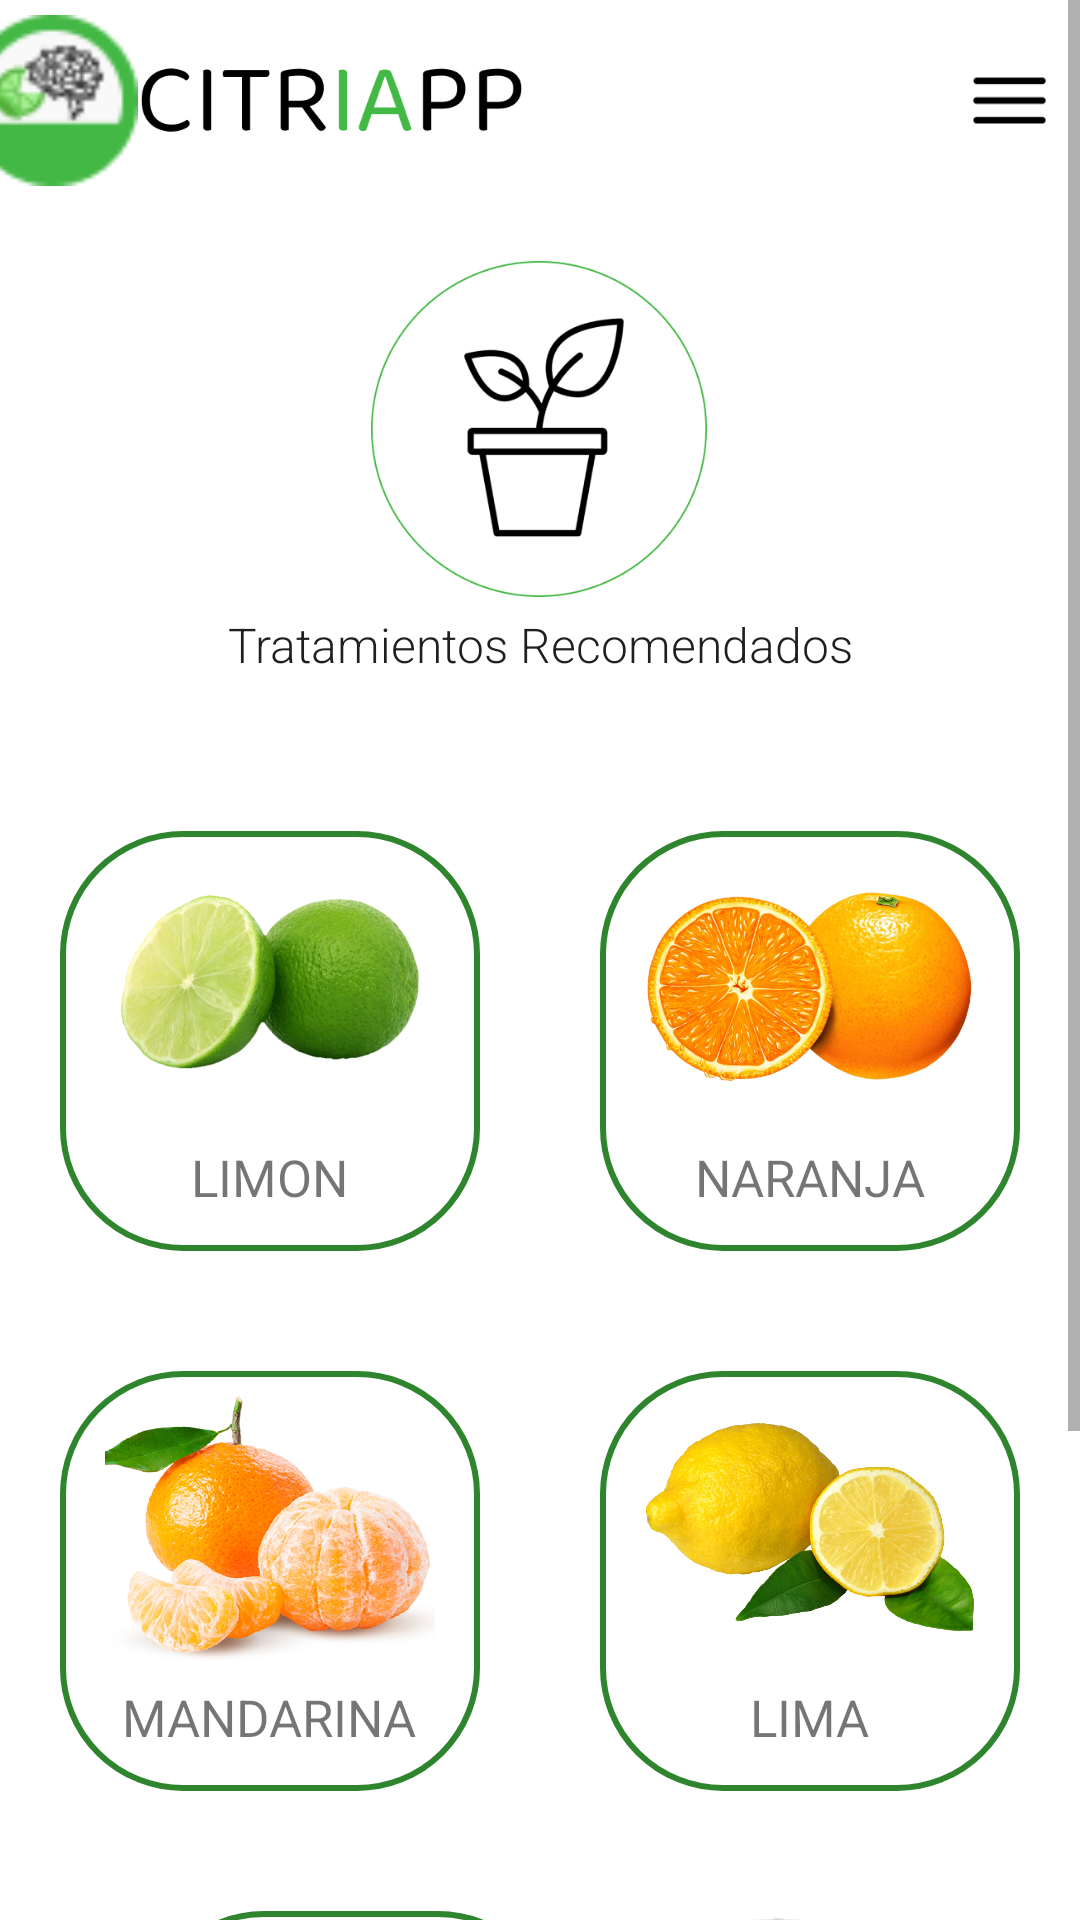

Locate icon controls on the screen. Image size 1080px x 1920px, boxes as {"left": x1, "top": y1, "right": x2, "bottom": y2}.
menu: {"left": 973, "top": 77, "right": 1046, "bottom": 124}
